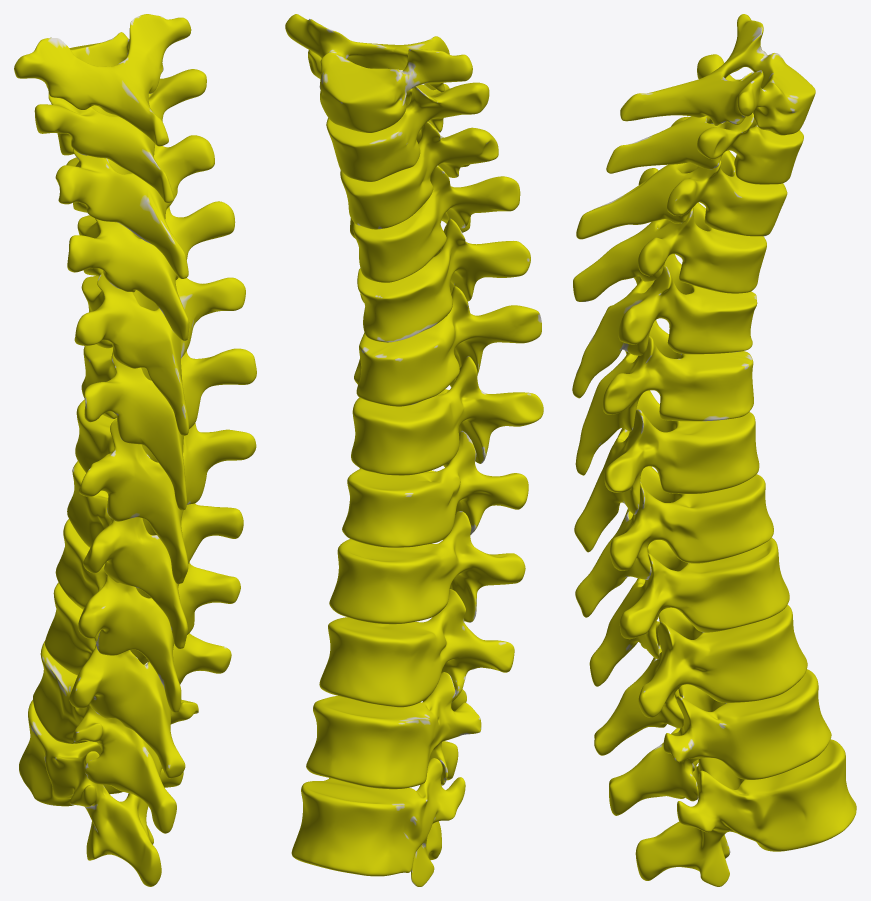
The model's file is 03_t_spine.glb.
The picture shows the model from 3 angles, left to right: view 1: azimuth 30°, elevation 25°; view 2: azimuth 150°, elevation 25°; view 3: azimuth 270°, elevation 25°; orthographic projection. The views are drawn at different scales.
Parts seen in each view (by area): view 1: vertebra_T07, vertebra_T10, vertebra_T01, vertebra_T09, vertebra_T06, vertebra_T05, vertebra_T08, vertebra_T12, vertebra_T11, vertebra_T03, vertebra_T04, vertebra_T02; view 2: vertebra_T12, vertebra_T10, vertebra_T11, vertebra_T09, vertebra_T07, vertebra_T08, vertebra_T01, vertebra_T06, vertebra_T05, vertebra_T04, vertebra_T02, vertebra_T03; view 3: vertebra_T12, vertebra_T11, vertebra_T10, vertebra_T09, vertebra_T07, vertebra_T08, vertebra_T06, vertebra_T05, vertebra_T01, vertebra_T04, vertebra_T03, vertebra_T02.
Part boxes in pixels (x1=…): vertebra_T07: x1=75, y1=399, x2=256, y2=584; vertebra_T10: x1=45, y1=582, x2=231, y2=778; vertebra_T01: x1=14, y1=14, x2=191, y2=146; vertebra_T09: x1=55, y1=519, x2=240, y2=712; vertebra_T06: x1=81, y1=344, x2=256, y2=510; vertebra_T05: x1=74, y1=272, x2=245, y2=435; vertebra_T08: x1=67, y1=461, x2=243, y2=648; vertebra_T12: x1=19, y1=700, x2=183, y2=886; vertebra_T11: x1=33, y1=640, x2=198, y2=833; vertebra_T03: x1=55, y1=135, x2=214, y2=278; vertebra_T04: x1=67, y1=201, x2=235, y2=340; vertebra_T02: x1=34, y1=69, x2=206, y2=202; vertebra_T12: x1=291, y1=758, x2=465, y2=886; vertebra_T10: x1=319, y1=589, x2=514, y2=711; vertebra_T11: x1=306, y1=672, x2=481, y2=789; vertebra_T09: x1=329, y1=511, x2=525, y2=624; vertebra_T07: x1=351, y1=356, x2=543, y2=475; vertebra_T08: x1=342, y1=430, x2=528, y2=547; vertebra_T01: x1=285, y1=14, x2=472, y2=132; vertebra_T06: x1=356, y1=286, x2=541, y2=406; vertebra_T05: x1=350, y1=218, x2=530, y2=342; vertebra_T04: x1=353, y1=165, x2=520, y2=282; vertebra_T02: x1=308, y1=50, x2=489, y2=181; vertebra_T03: x1=340, y1=121, x2=498, y2=229; vertebra_T12: x1=635, y1=739, x2=856, y2=886; vertebra_T11: x1=609, y1=669, x2=831, y2=815; vertebra_T10: x1=594, y1=604, x2=807, y2=755; vertebra_T09: x1=589, y1=537, x2=789, y2=686; vertebra_T07: x1=574, y1=390, x2=759, y2=552; vertebra_T08: x1=575, y1=466, x2=773, y2=617; vertebra_T06: x1=575, y1=305, x2=753, y2=475; vertebra_T05: x1=572, y1=254, x2=757, y2=398; vertebra_T01: x1=620, y1=14, x2=815, y2=135; vertebra_T04: x1=573, y1=168, x2=766, y2=301; vertebra_T03: x1=576, y1=116, x2=787, y2=239; vertebra_T02: x1=606, y1=54, x2=803, y2=184.
Bounding box in the file's own units: 0.0735 × 0.3267 × 0.1012.
